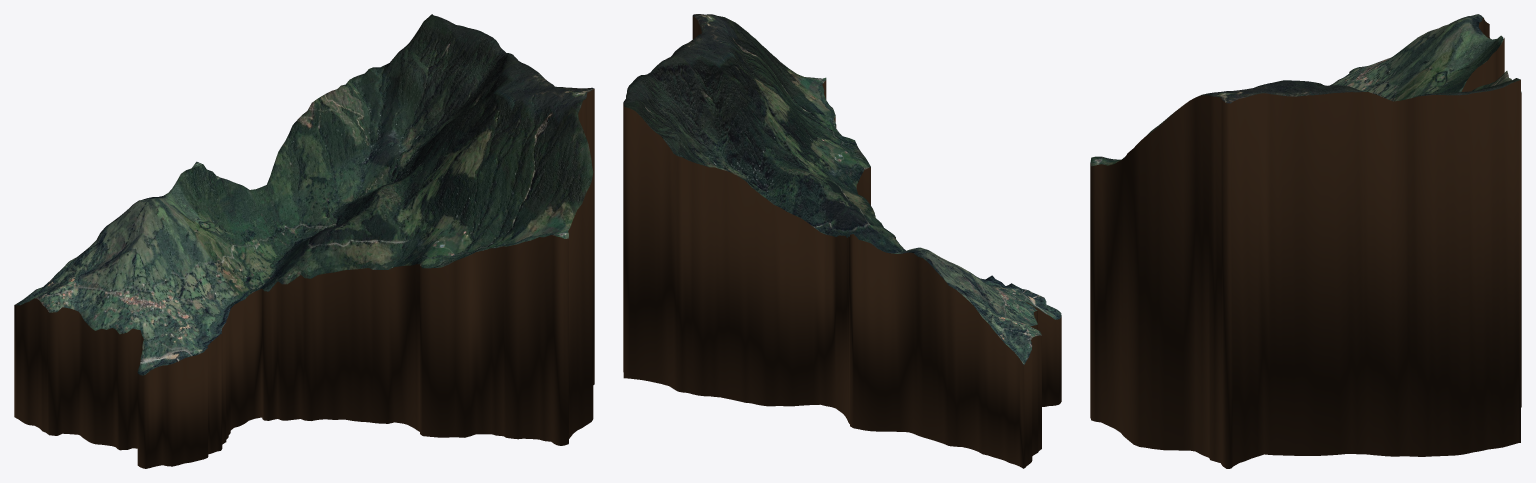
The model's file is SectorCentral.fbx.
3 views of the same model, side by side, from view 1: azimuth 30°, elevation 25°; view 2: azimuth 150°, elevation 25°; view 3: azimuth 270°, elevation 25° (orthographic). The views are drawn at different scales.
Visible parts, largest first — view 1: Sector Central; view 2: Sector Central; view 3: Sector Central.
Boxes of the visible parts, box(x1,y1,x2,y2) form: Sector Central: box(14, 14, 594, 468); Sector Central: box(623, 14, 1061, 468); Sector Central: box(1090, 14, 1521, 468).
Size of the model in its own units: 511026 by 308617 by 329499.
4 materials, 3 textured.
